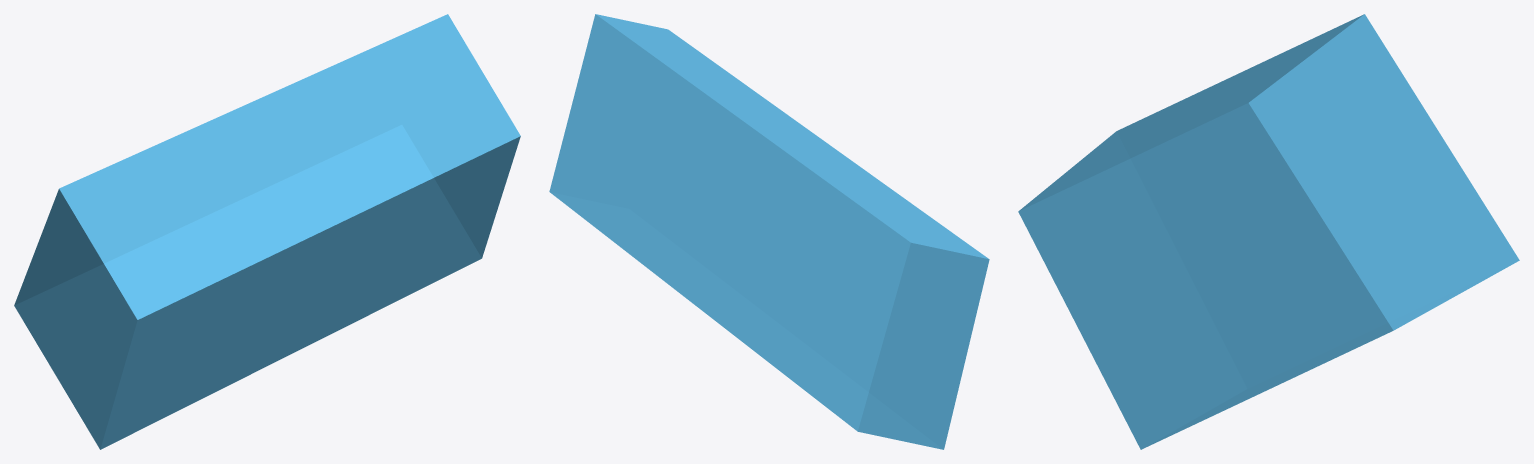
The model's file is Event_420107950_HErechit_2.fbx.
The picture shows the model from 3 angles, left to right: view 1: azimuth 30°, elevation 25°; view 2: azimuth 150°, elevation 25°; view 3: azimuth 270°, elevation 25°; orthographic projection. The views are drawn at different scales.
Parts seen in each view (by area): view 1: Model; view 2: Model; view 3: Model.
Part boxes in pixels (<box>): Model: <box>14,14,520,449</box>; Model: <box>549,14,989,449</box>; Model: <box>1018,14,1519,449</box>.
Bounding box in the file's own units: 0.7955 × 0.7573 × 0.621.
